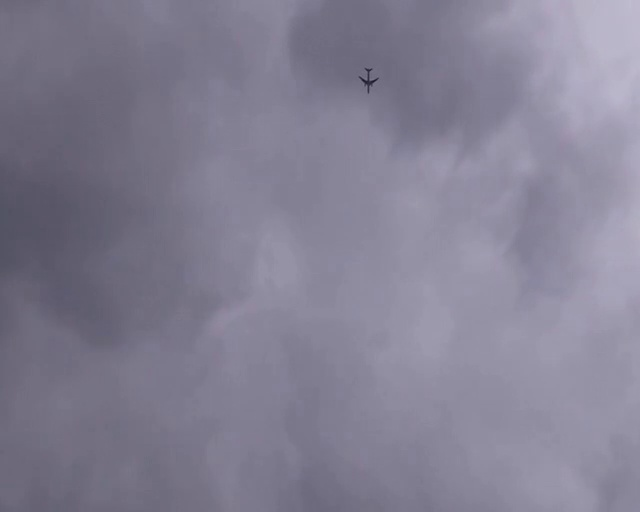AIRPLANE: (358, 66, 380, 93)
